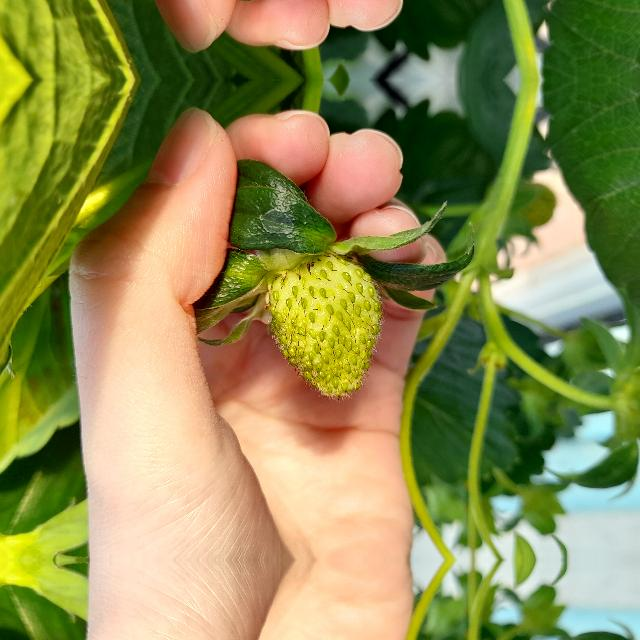Health_25: (268, 251, 382, 397)
